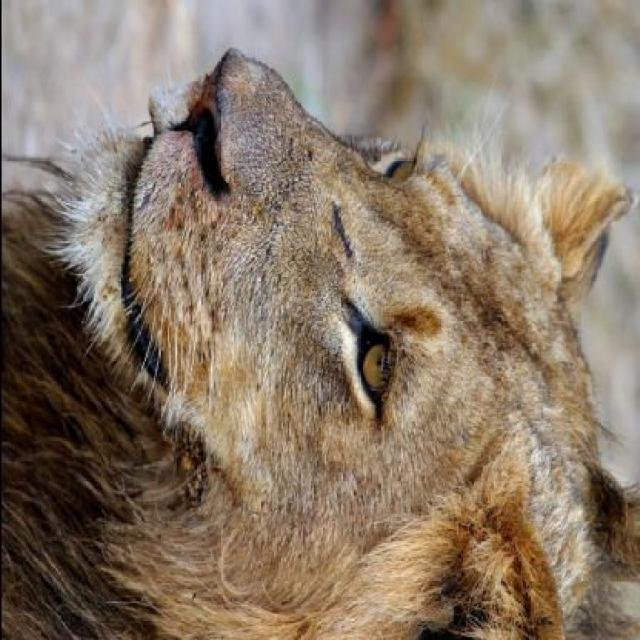Lion: (0, 19, 631, 638)
